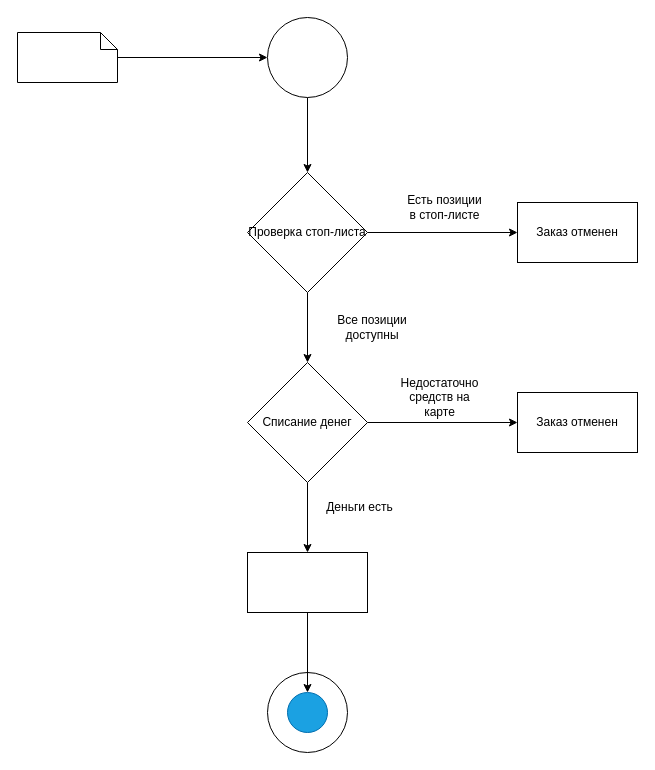
The diagram is 655 pixels wide and 770 high, and some of its shapes have lost their labels. Each missing label, with the centre of its shape:
Заказ размещен в ЛК ресторана: point (307, 582)
создан заказ: point (67, 57)
